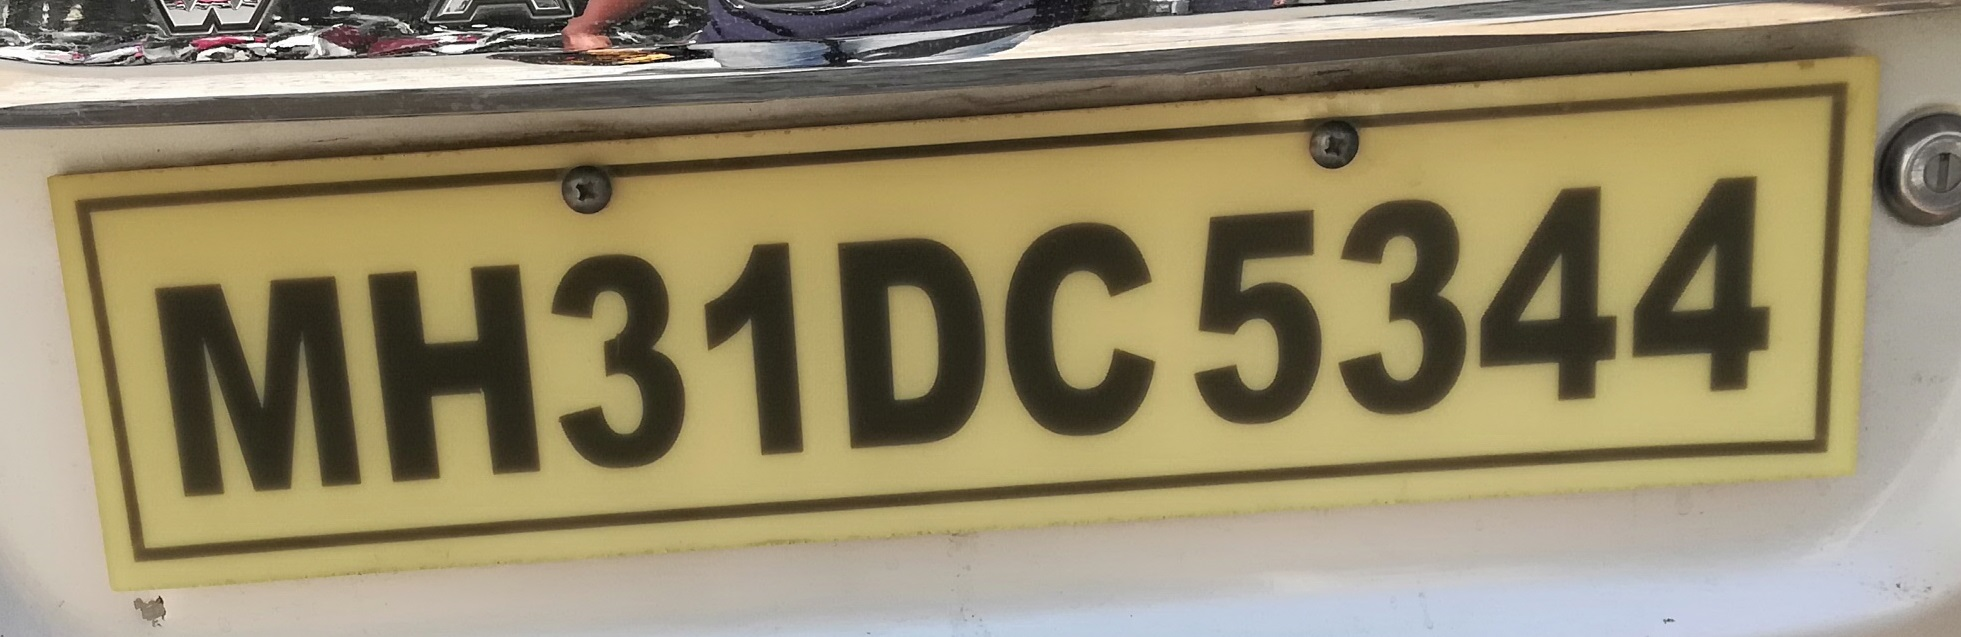numberplate: (50, 52, 1883, 596)
